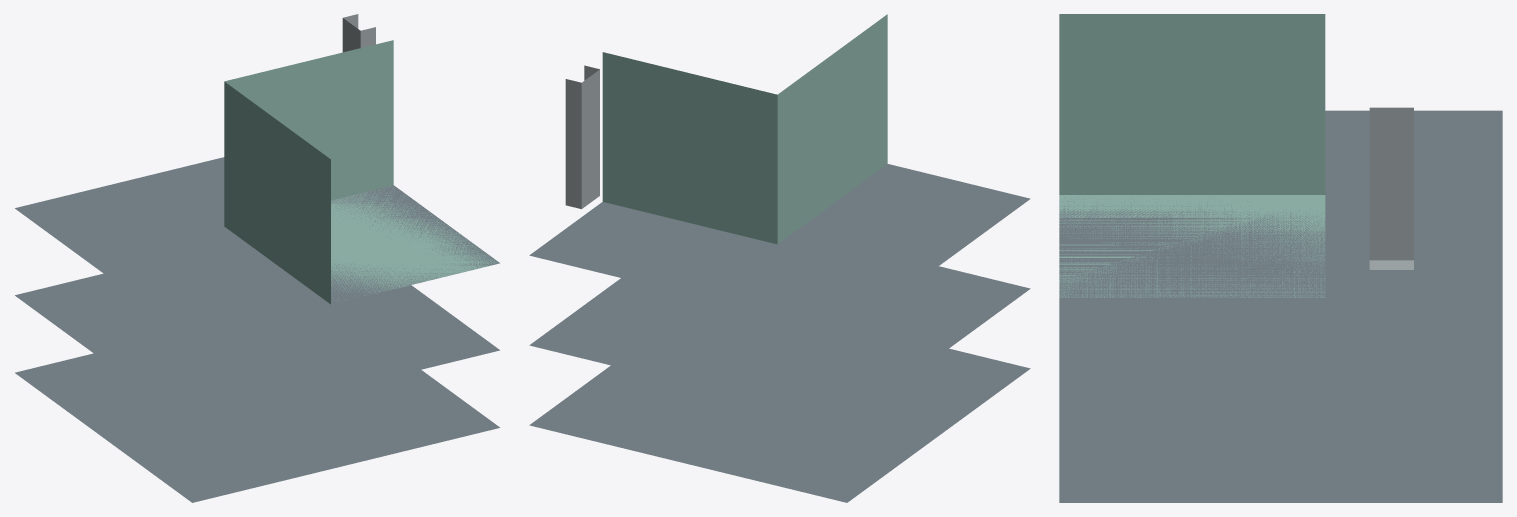
Rendered from cell_33.obj.
3 views of the same model, side by side, from view 1: azimuth 30°, elevation 25°; view 2: azimuth 150°, elevation 25°; view 3: azimuth 270°, elevation 25° (orthographic). The views are drawn at different scales.
Size of the model in its own units: 1 by 0.96 by 1.
